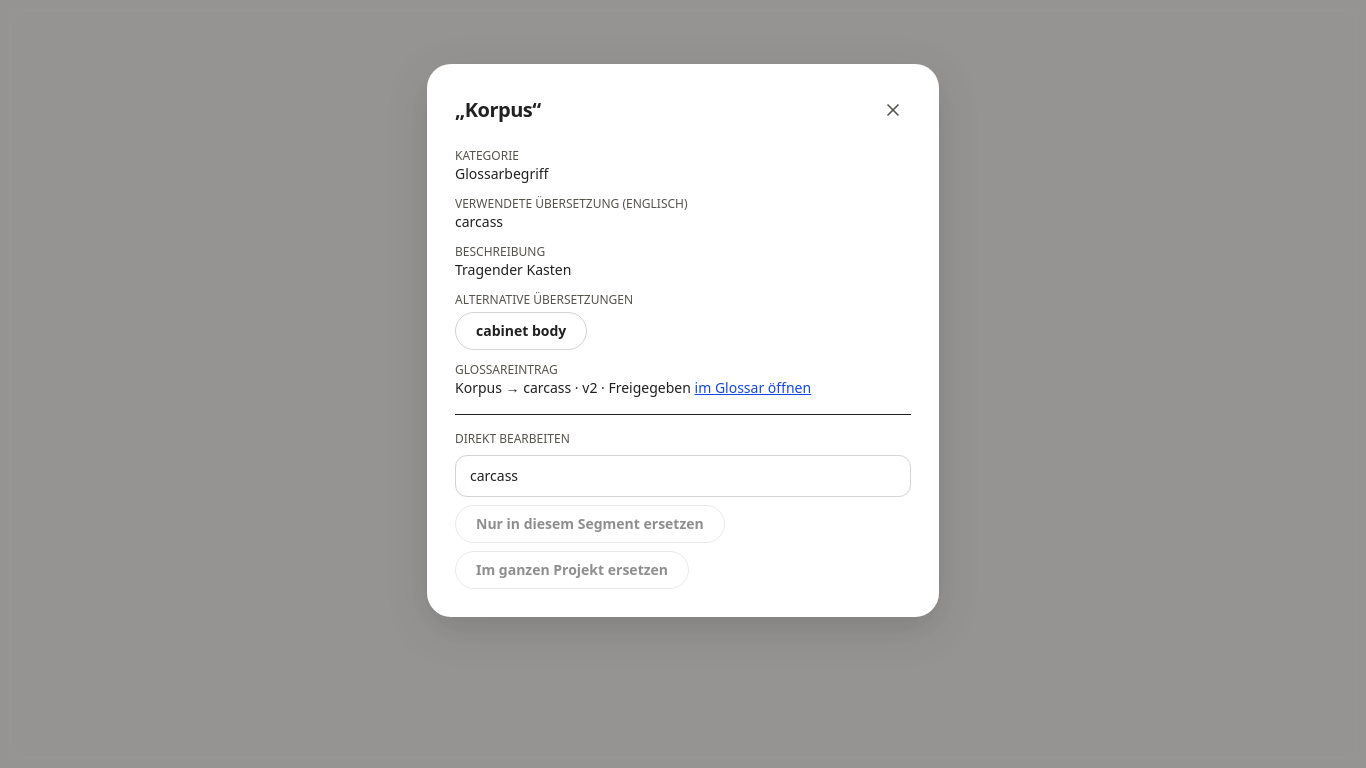
TermDialog › says so when the text was not found, instead of closing
Type "s" into the field named "Neue Übersetzung" at (683, 476), box [455,455,911,497]
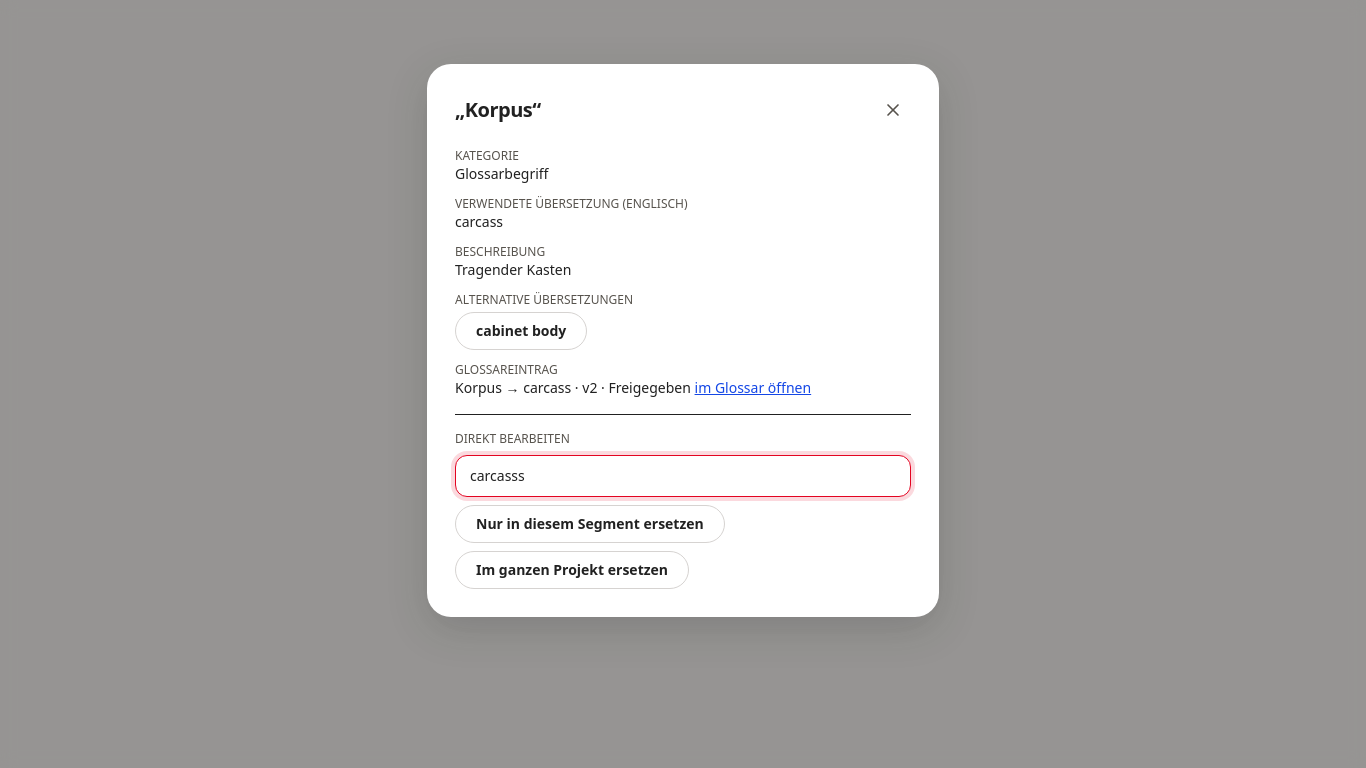
Click the button "Nur in diesem Segment ersetzen" at (590, 524), box [455,505,725,543]
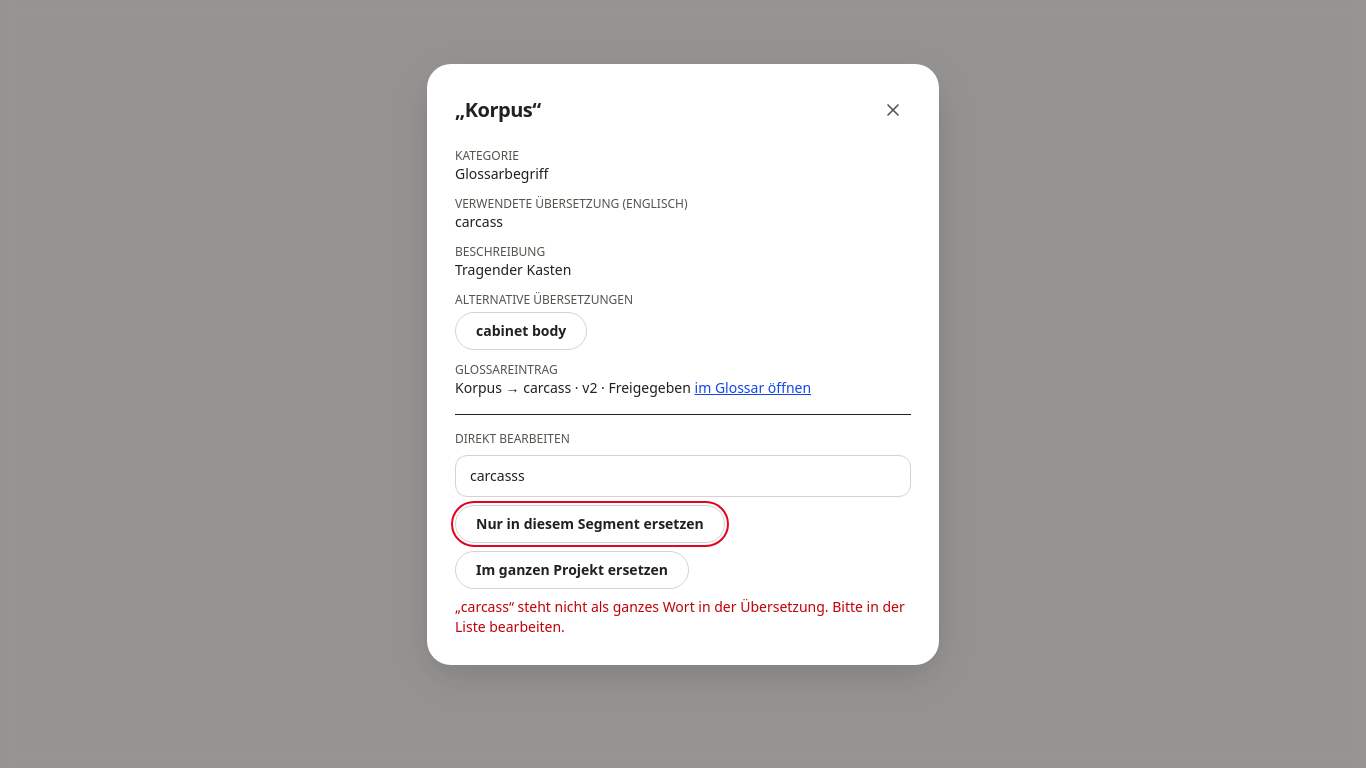
Check: the text "steht nicht als ganzes Wort" is shown, box [455,597,905,636]
